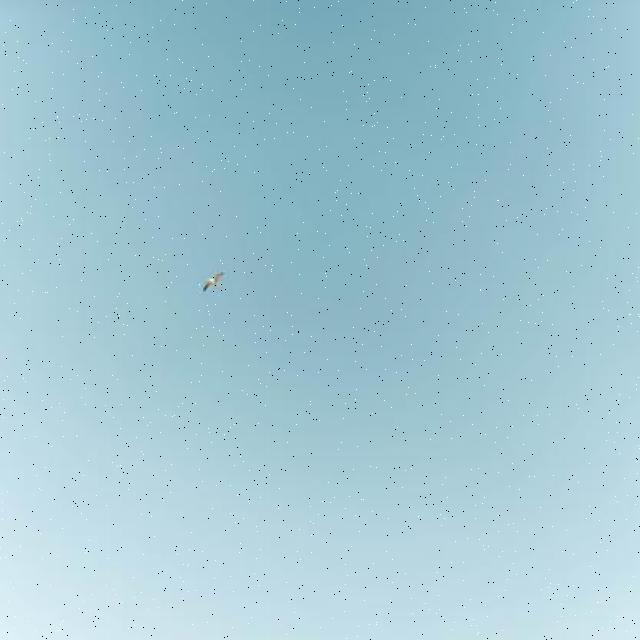bird: (203, 270, 224, 293)
